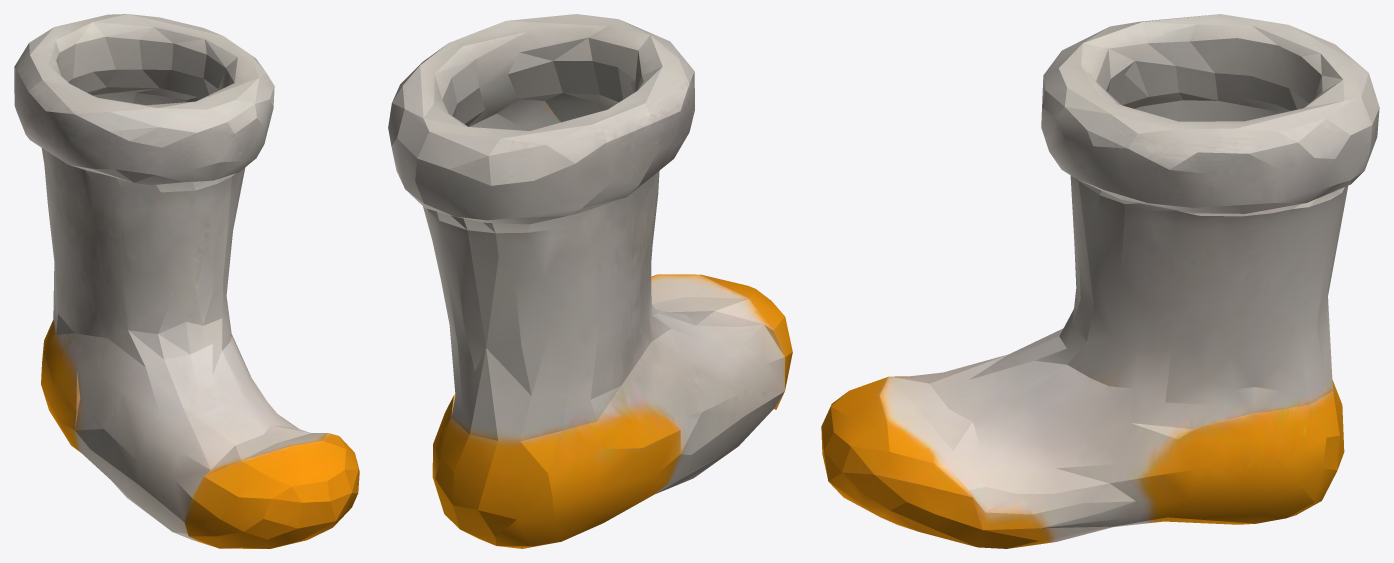
The model's file is sock.glb.
The picture shows the model from 3 angles, left to right: view 1: azimuth 30°, elevation 25°; view 2: azimuth 150°, elevation 25°; view 3: azimuth 270°, elevation 25°; orthographic projection. The views are drawn at different scales.
Parts seen in each view (by area): view 1: model; view 2: model; view 3: model.
Part boxes in pixels (<box>): model: <box>14,14,359,548</box>; model: <box>388,14,792,548</box>; model: <box>821,14,1379,548</box>.
Bounding box in the file's own units: 0.9821 × 1.69 × 1.9.
Materials: 1 (1 with a texture image).
